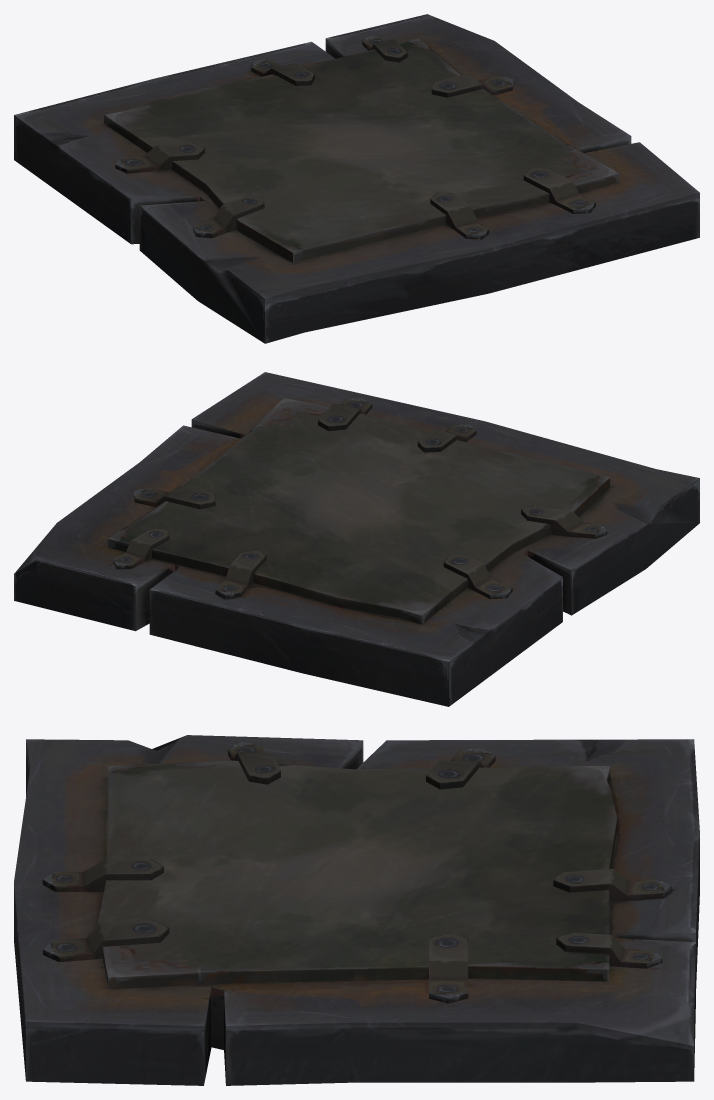
File: Floor03.FBX
3 renders of one model, top to bottom at view 1: azimuth 30°, elevation 25°; view 2: azimuth 150°, elevation 25°; view 3: azimuth 270°, elevation 25°, orthographic. The views are drawn at different scales.
Visible parts, largest first — view 1: Floor03; view 2: Floor03; view 3: Floor03.
Boxes of the visible parts, box(x1,y1,x2,y2) form: Floor03: box(14, 14, 699, 343); Floor03: box(14, 372, 699, 706); Floor03: box(14, 735, 699, 1085).
Size of the model in its own units: 2.06 by 0.2571 by 2.05.
Materials: 1 (1 with a texture image).
